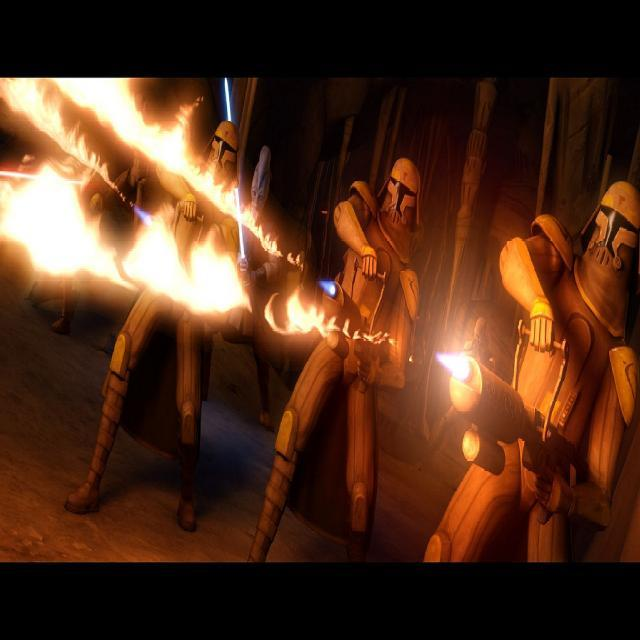Fire: (9, 174, 100, 274), (141, 230, 243, 313), (78, 84, 150, 138), (283, 303, 325, 338), (438, 342, 469, 384)
